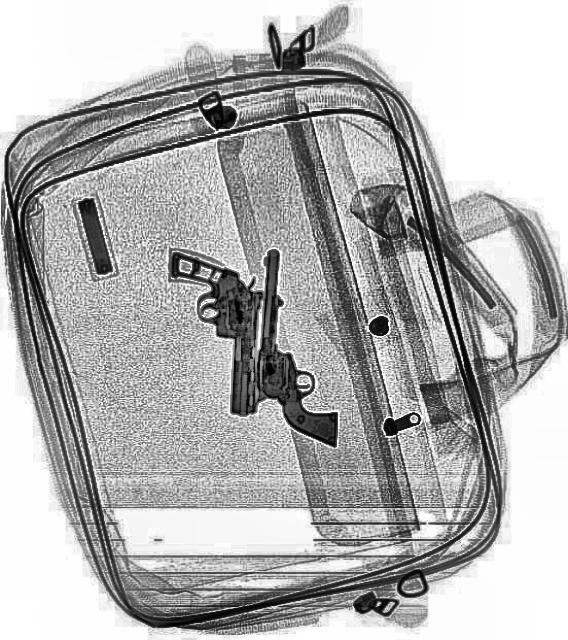Gun: (245, 247, 353, 446), (166, 248, 264, 416)
